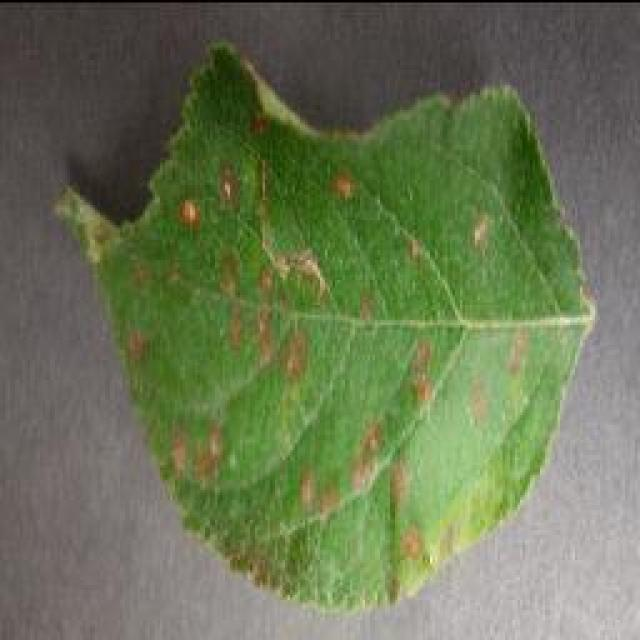apple rust disease: (50, 37, 598, 615)
